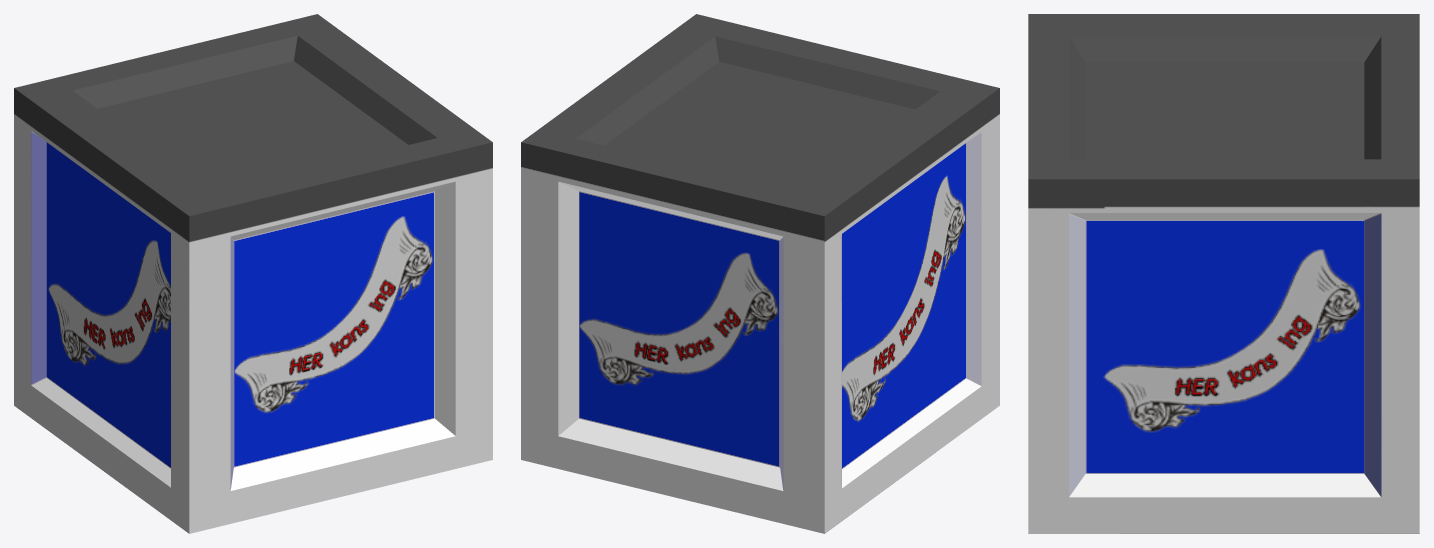
The model's file is Pickup_Shield.obj.
3 renders of one model, left to right at view 1: azimuth 30°, elevation 25°; view 2: azimuth 150°, elevation 25°; view 3: azimuth 270°, elevation 25°, orthographic. The views are drawn at different scales.
Visible parts, largest first — view 1: Crate1:Base_Crate Crate1:pCube2 Crate1:polySurface2 Pcikup_Shiel; view 2: Crate1:Base_Crate Crate1:pCube2 Crate1:polySurface2 Pcikup_Shiel; view 3: Crate1:Base_Crate Crate1:pCube2 Crate1:polySurface2 Pcikup_Shiel.
Part boxes in pixels (box(x1,y1,x2,y2)): Crate1:Base_Crate Crate1:pCube2 Crate1:polySurface2 Pcikup_Shiel: box(14, 14, 492, 533); Crate1:Base_Crate Crate1:pCube2 Crate1:polySurface2 Pcikup_Shiel: box(521, 14, 999, 533); Crate1:Base_Crate Crate1:pCube2 Crate1:polySurface2 Pcikup_Shiel: box(1028, 14, 1419, 533).
Size of the model in its own units: 1 by 1 by 1.
